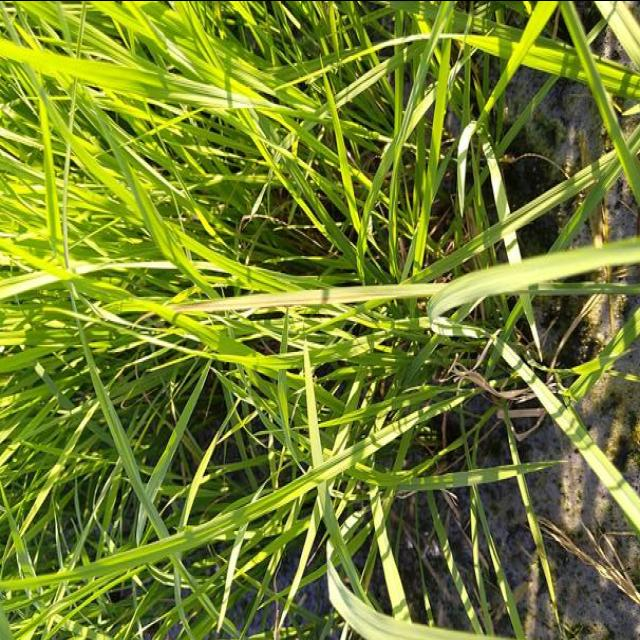Leaf Streak: (166, 282, 447, 313)
